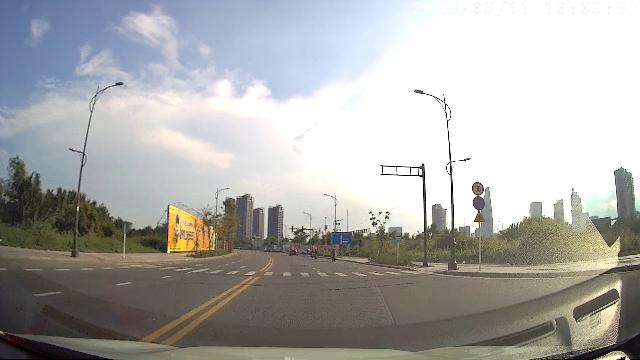127-toc-do-toi-da-50: (472, 182, 484, 195)
